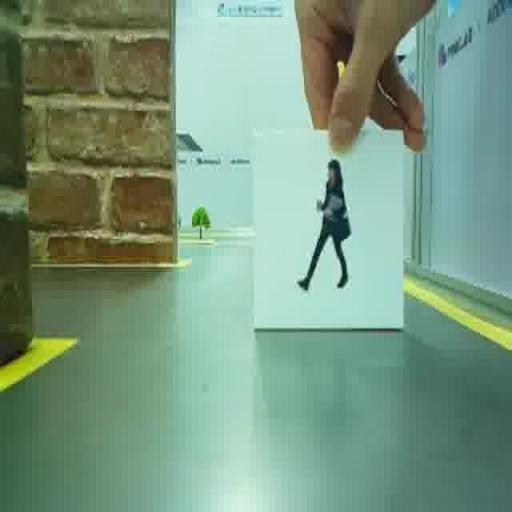human: (297, 159, 350, 290)
